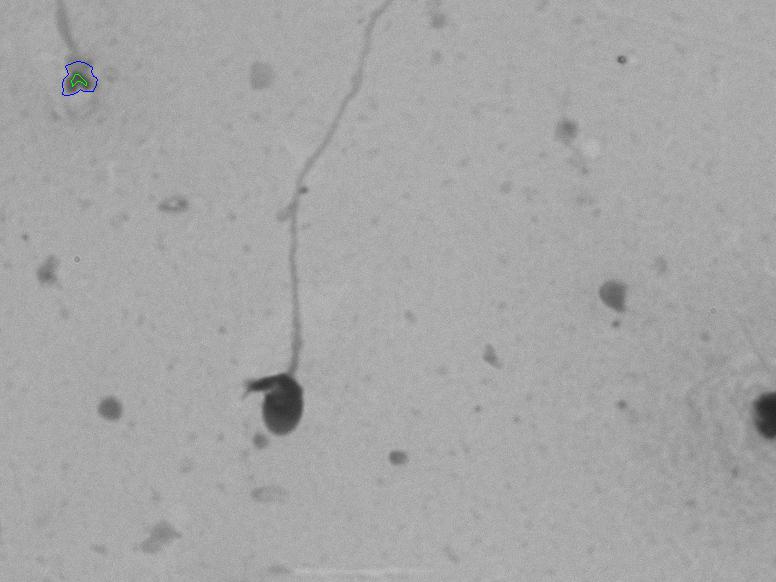Abnormal: (223, 61, 364, 458)
